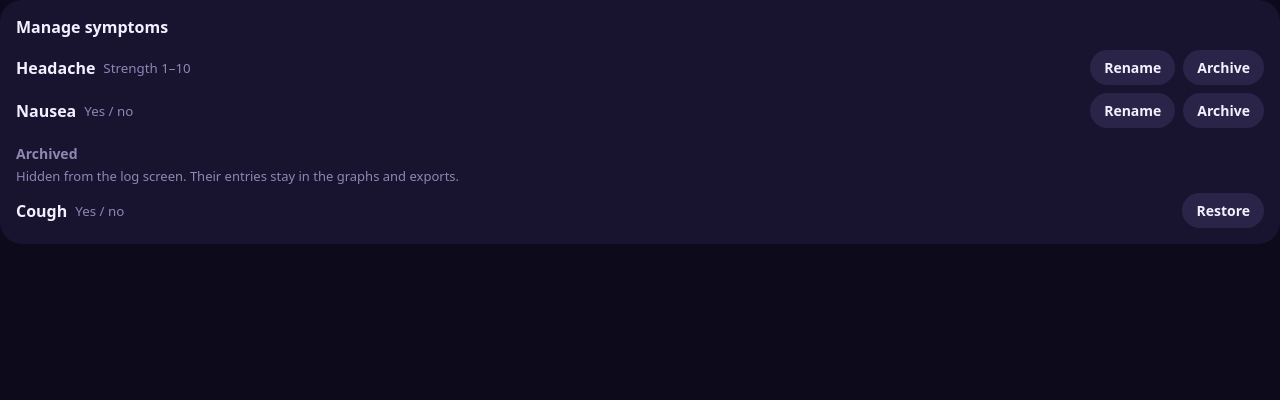
ManageSymptomsCard › refuses another active symptom's name and keeps the old one
Expected: the text "Headache" is shown, x1=16 y1=56 x2=95 y2=78
Click the button with aria-label "Rename Headache": coordinates (1133, 68) x1=1090 y1=50 x2=1175 y2=85
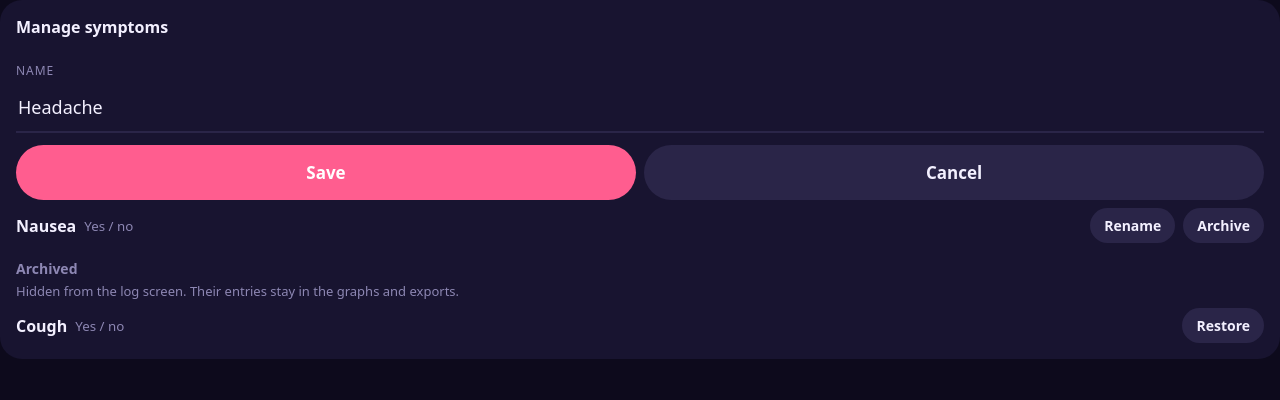
Replace the text in the field labelled "Name" with "nausea": coordinates (640, 108) x1=16 y1=83 x2=1264 y2=133
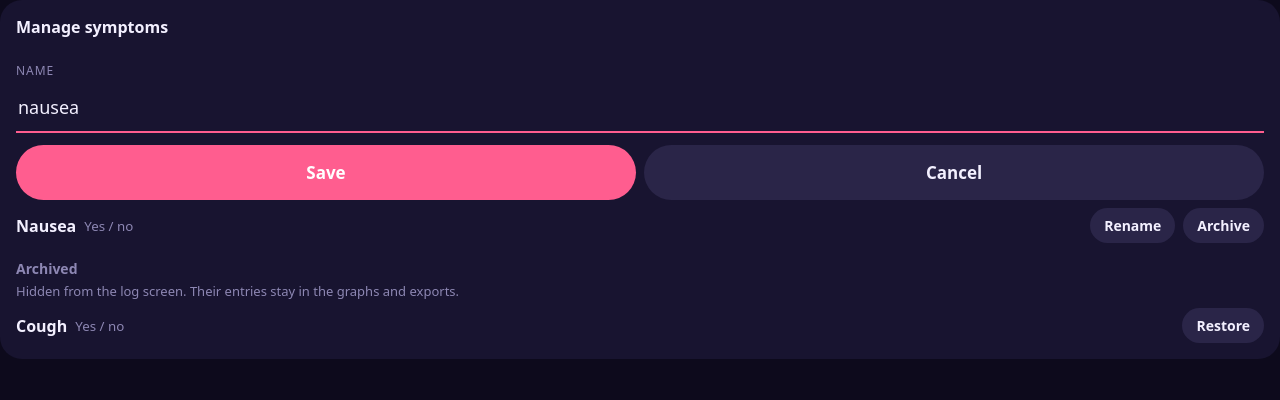
Click the button "Save": coordinates (326, 172) x1=16 y1=145 x2=636 y2=200
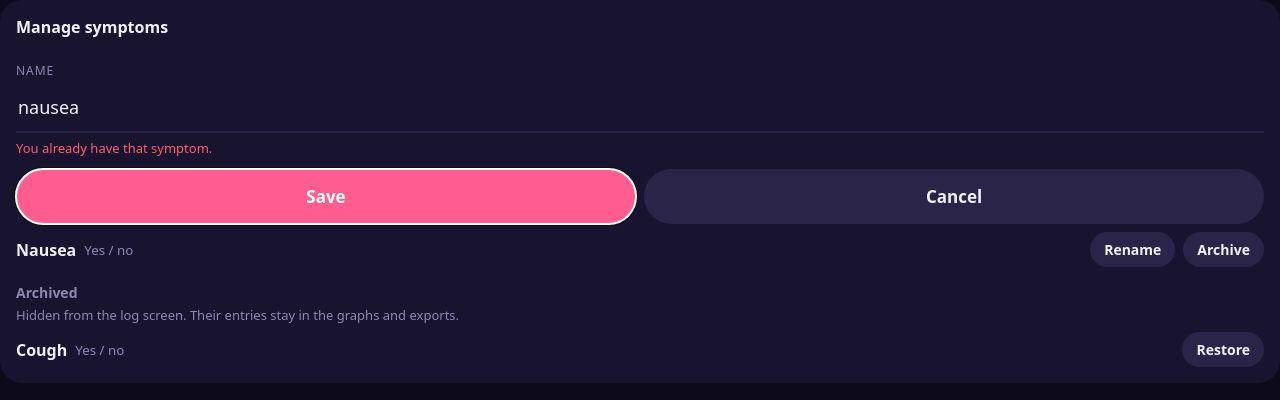
Expected: the message reads "You already have that symptom.", x1=16 y1=139 x2=212 y2=157
